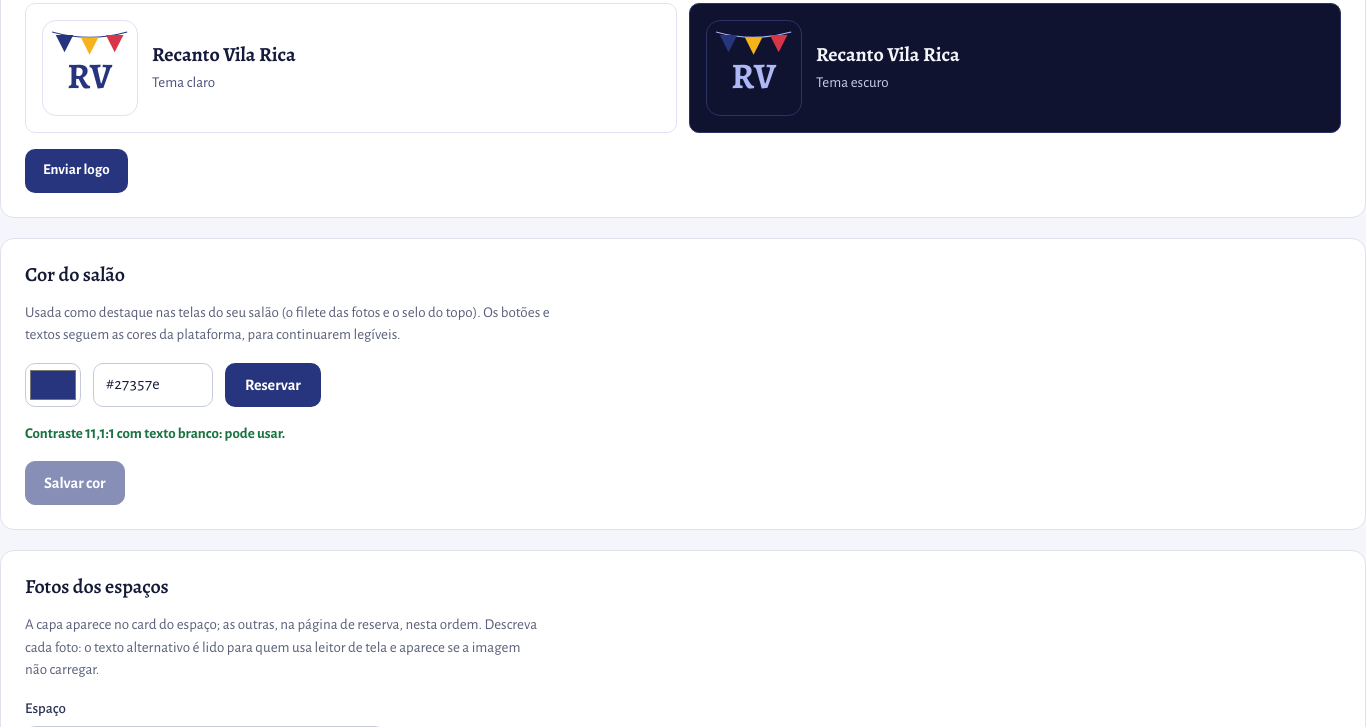
Test: Painel → Marca e fotos › cor: avisa o contraste antes de salvar e só salva a cor que passa
(page scrolled)
Replace the text in the field named "Código da cor" with "#f4b41a" at (153, 385), box [93, 363, 213, 407]
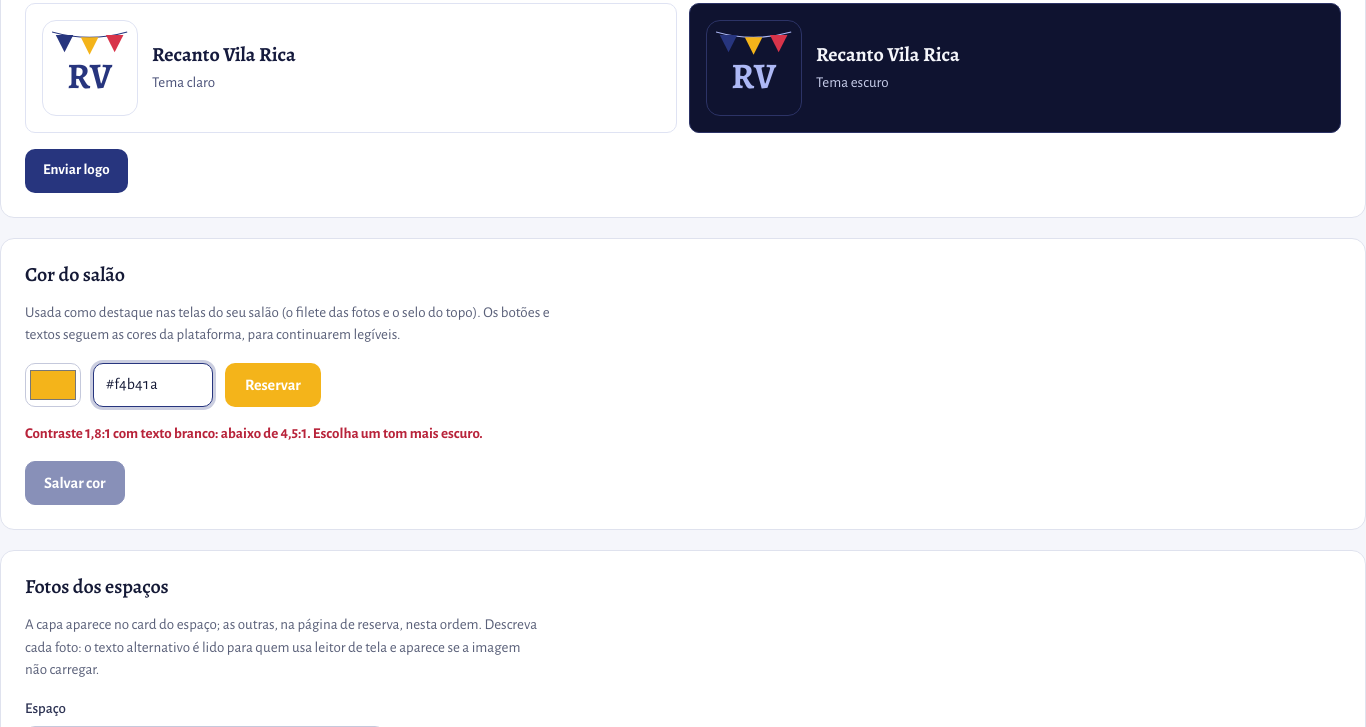
expect the button "Salvar cor" is disabled: met, box [25, 461, 125, 505]
expect the text "abaixo de 4,5:1" is shown: met, box [25, 426, 483, 441]
Replace the text in the field named "Código da cor" with "#1F6B4F" at (153, 385), box [93, 363, 213, 407]
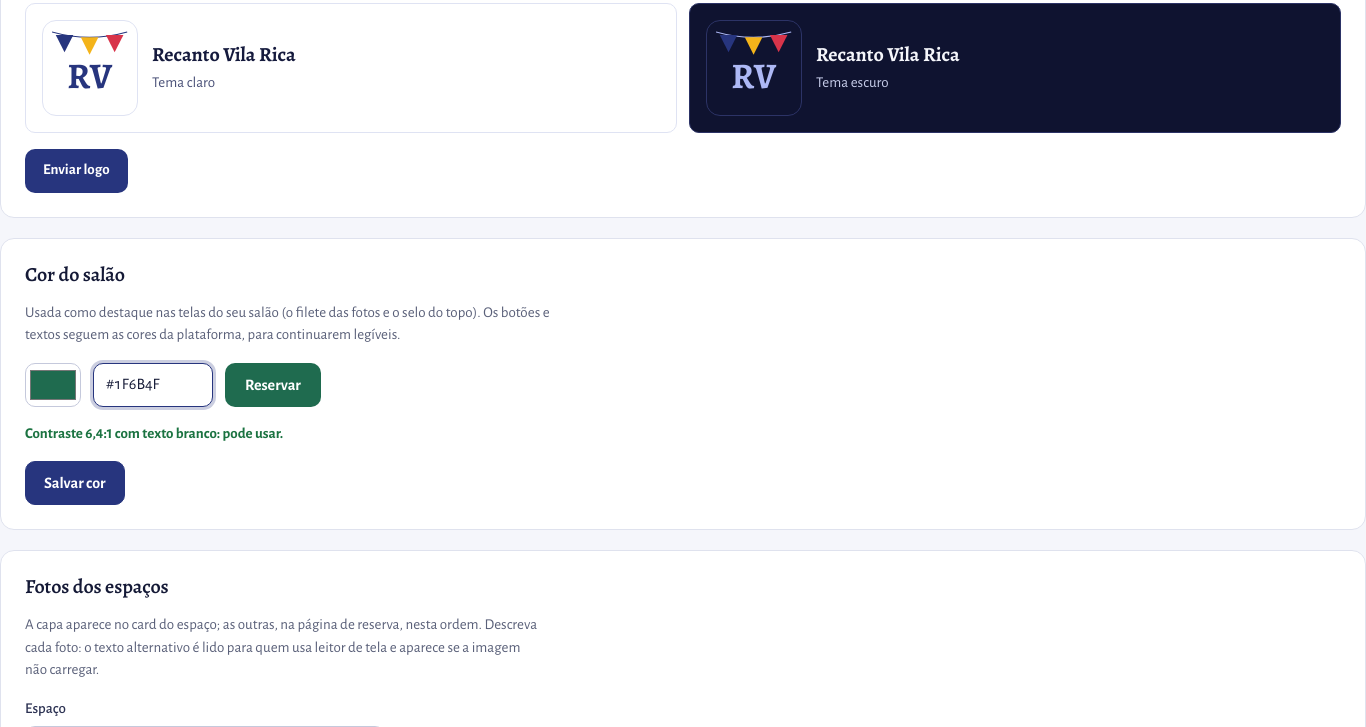
expect the text "Contraste 6,4:1 com texto branco: pode usar." is shown: met, box [25, 426, 283, 441]
Click the button "Salvar cor".
click(75, 483)  # box [25, 461, 125, 505]
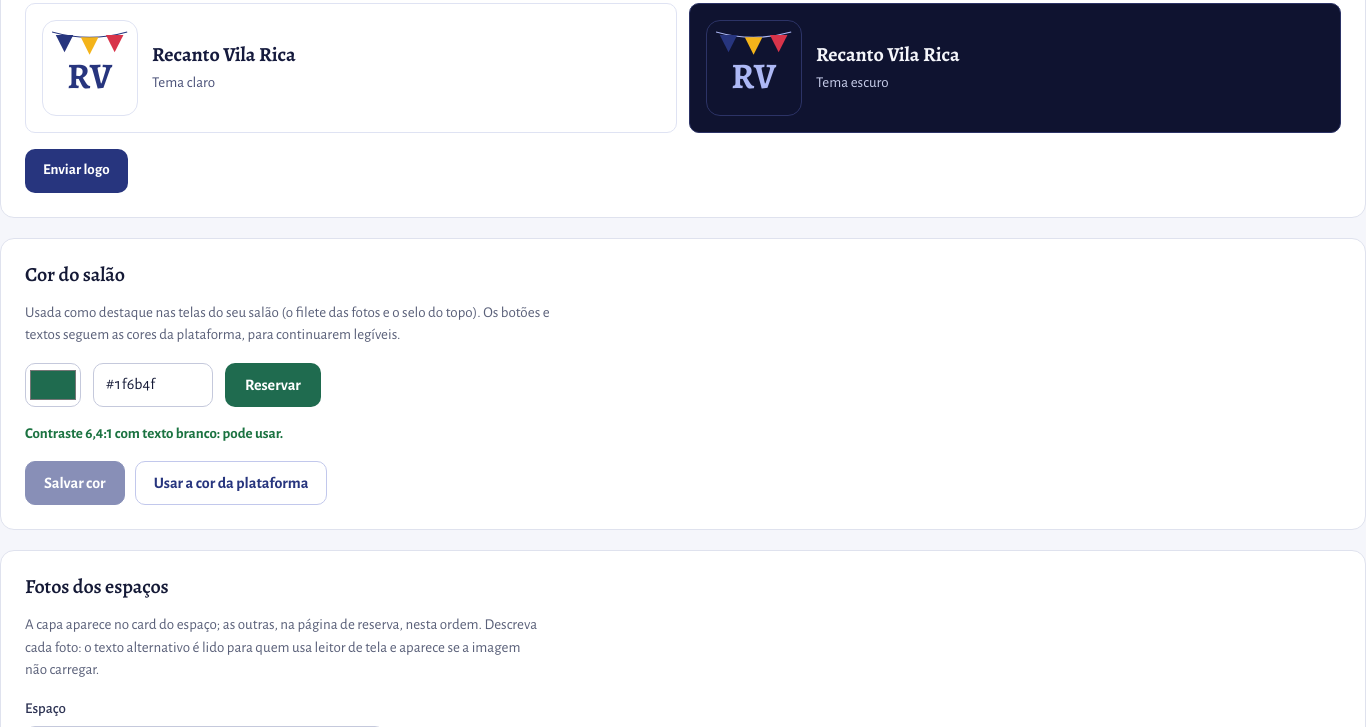
expect the button "Usar a cor da plataforma" is shown: met, box [135, 461, 328, 505]
